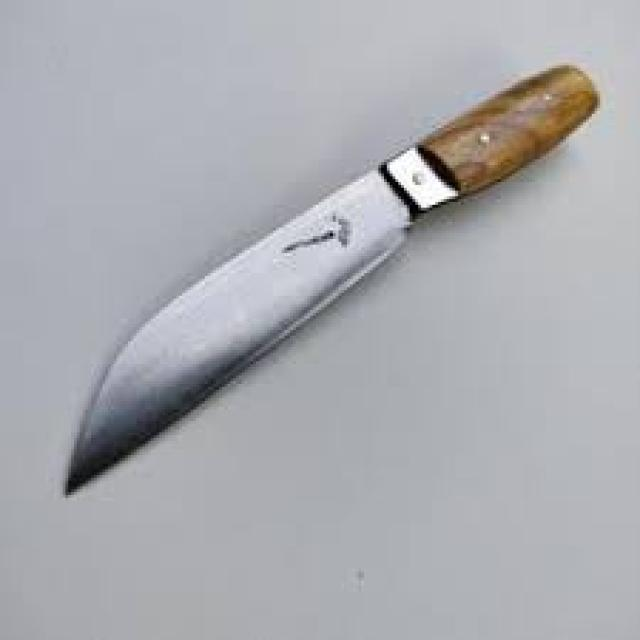Knife: (65, 63, 597, 495)
